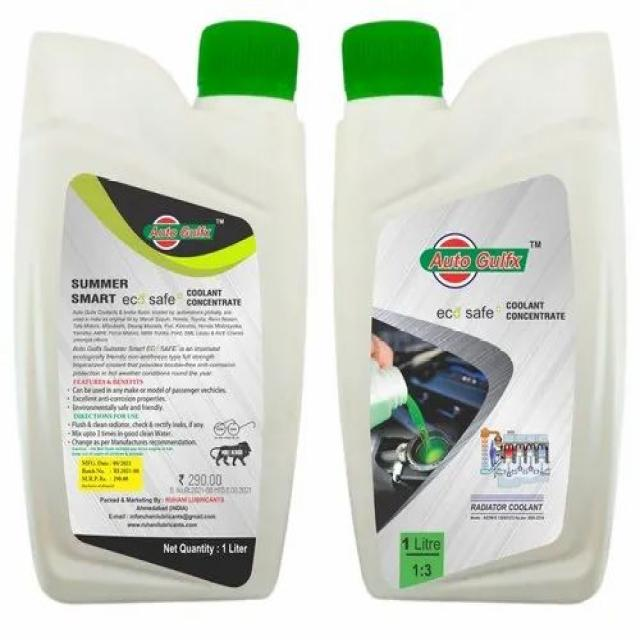coolant: (11, 13, 311, 611), (327, 19, 619, 600)
